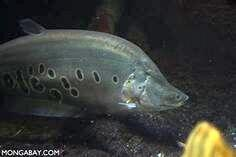Knifefish: (0, 18, 190, 133)
